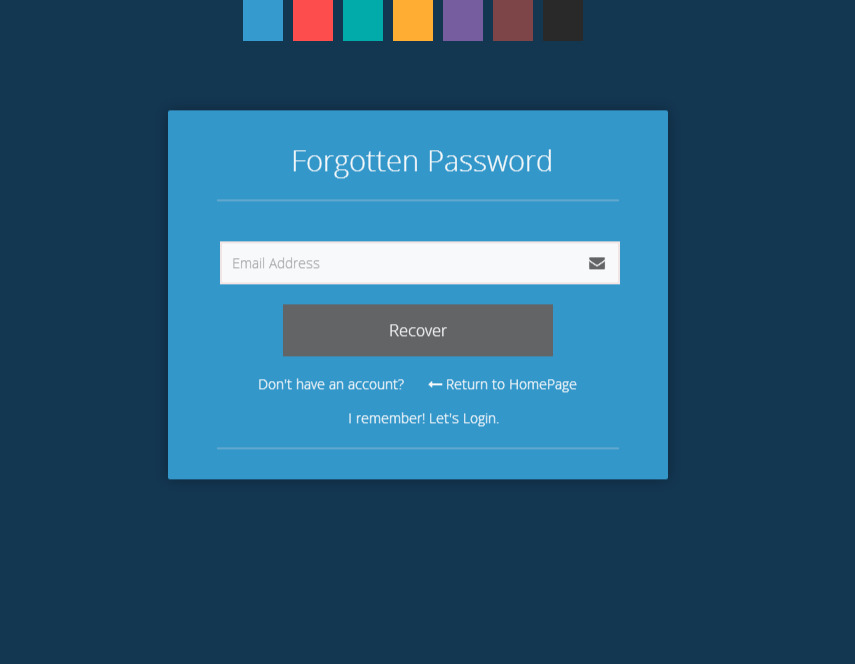_form_: (211, 100, 628, 517)
button: (282, 303, 554, 357)
field: (218, 241, 622, 286)
